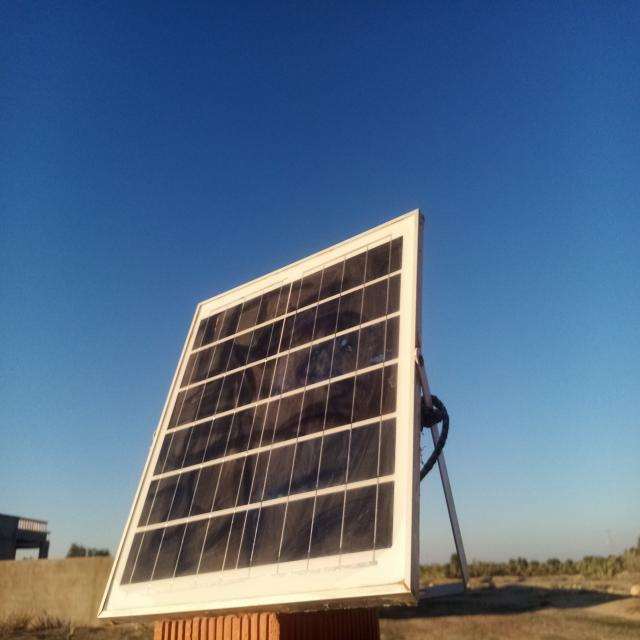faulty: (95, 211, 418, 613)
